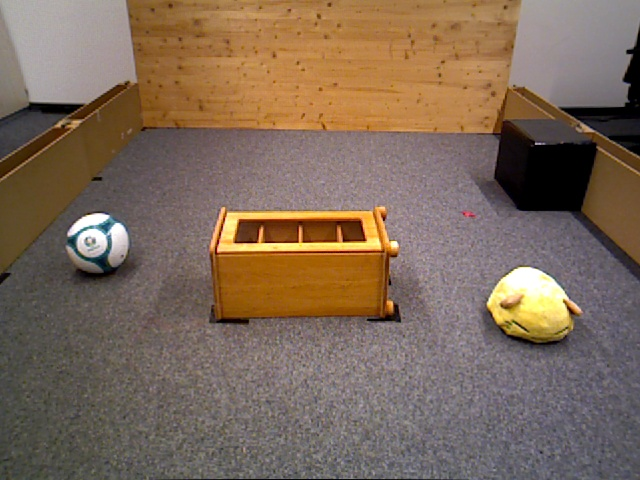grasp: (486, 266, 575, 345)
kick: (65, 211, 131, 277)
push: (494, 119, 598, 212)
